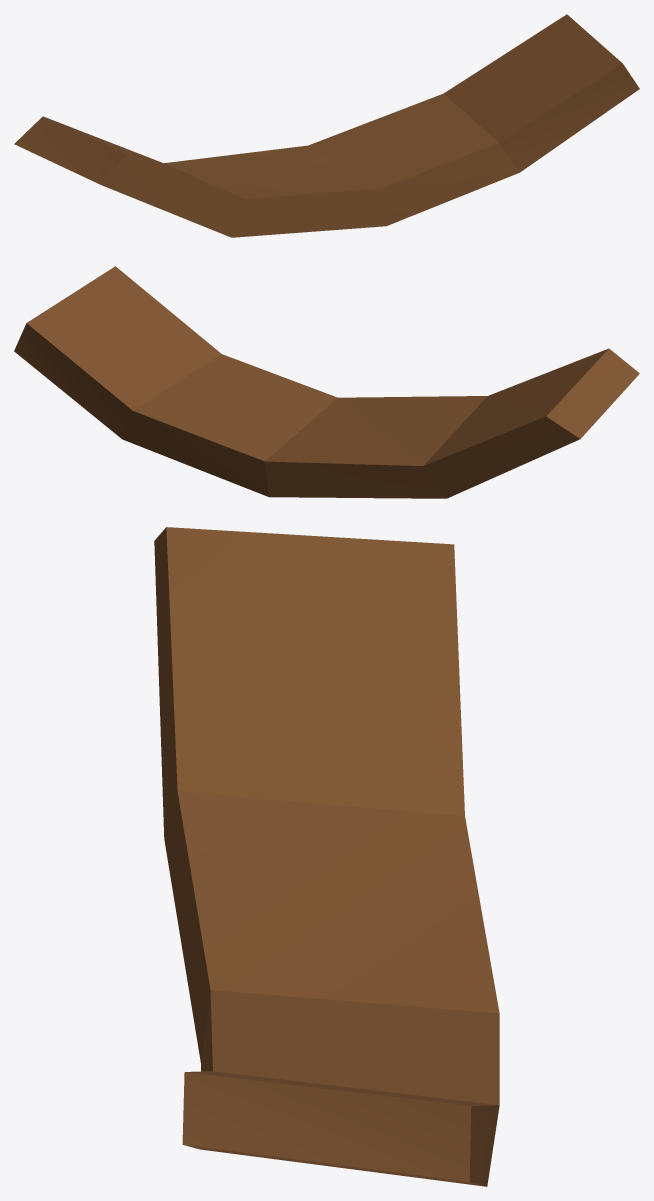
The model's file is bridge.obj.
3 renders of one model, top to bottom at view 1: azimuth 30°, elevation 25°; view 2: azimuth 150°, elevation 25°; view 3: azimuth 270°, elevation 25°, orthographic. The views are drawn at different scales.
Visible parts, largest first — view 1: s.0102; view 2: s.0102; view 3: s.0102.
Part boxes in pixels (<box>): s.0102: <box>14,14,639,237</box>; s.0102: <box>14,266,639,498</box>; s.0102: <box>154,527,499,1186</box>.
Bounding box in the file's own units: 0.4004 × 0.1045 × 0.107.
